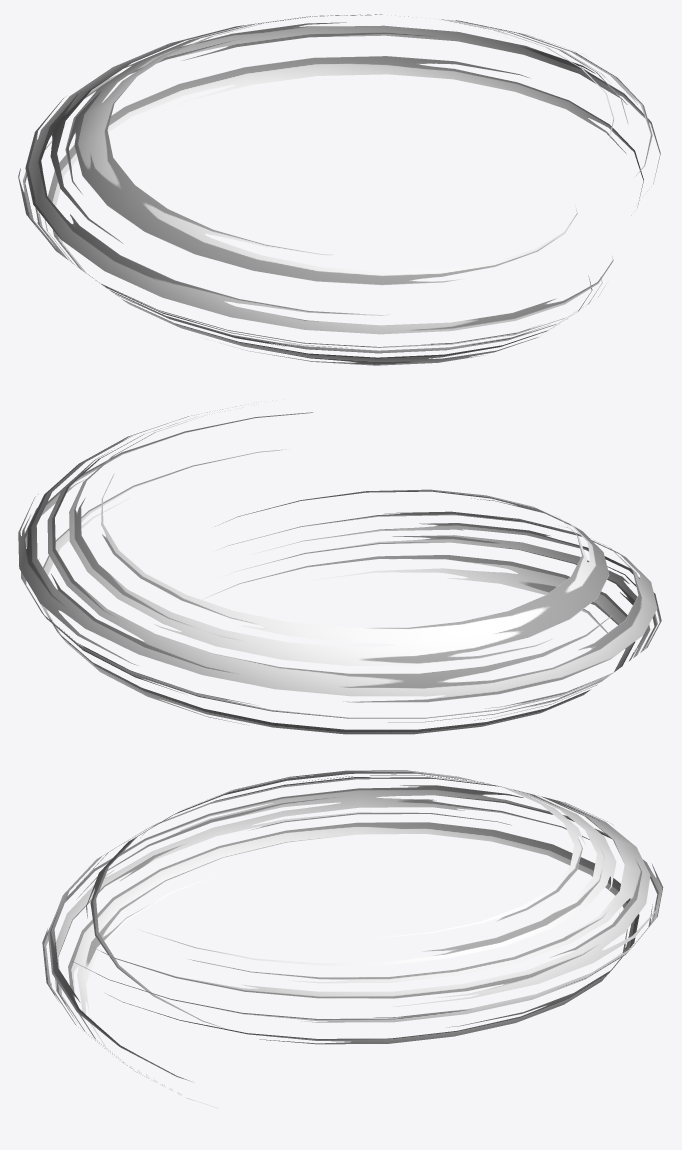
File: eff_trail_14.FBX
3 views of the same model, one above another, from view 1: azimuth 30°, elevation 25°; view 2: azimuth 150°, elevation 25°; view 3: azimuth 270°, elevation 25° (orthographic). The views are drawn at different scales.
Parts seen in each view (by area): view 1: eff_trail_14; view 2: eff_trail_14; view 3: eff_trail_14.
Part boxes in pixels (x1,y1,x2,y2): eff_trail_14: (18, 14, 660, 365); eff_trail_14: (18, 406, 661, 734); eff_trail_14: (42, 770, 663, 1100).
Size of the model in its own units: 284 by 99.62 by 284.
1 material, 1 textured.
